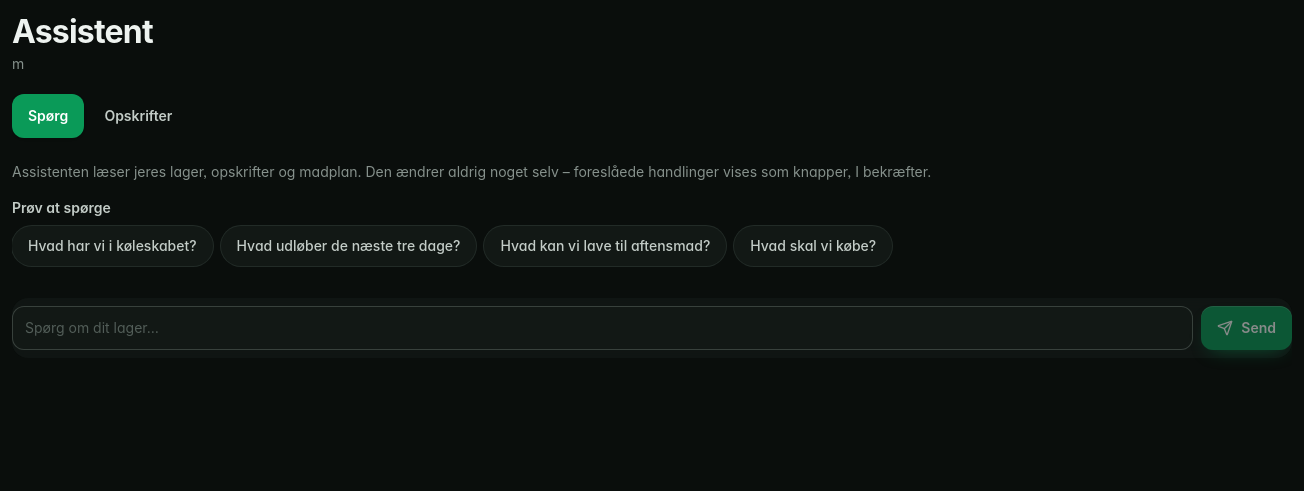
Test: AssistantPage › sends a starter question and shows the reply
The width and height of the screenshot is (1304, 491).
Step 1. Click the button "Hvad har vi i køleskabet?" → point(112, 246), box [12,226,213,266]
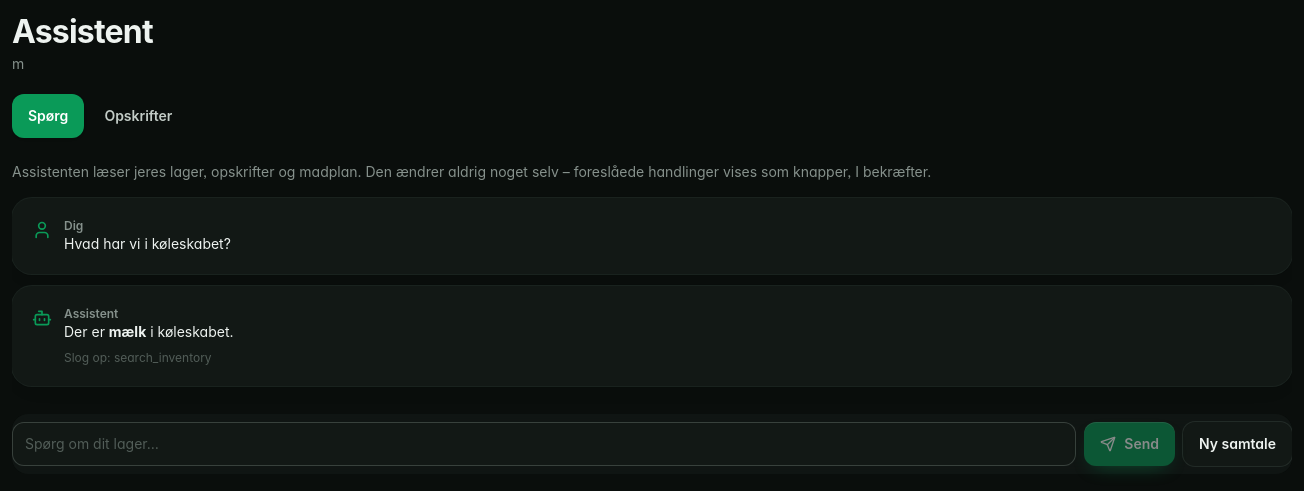
Now the text "mælk" is shown, box [109,323,146,340]
